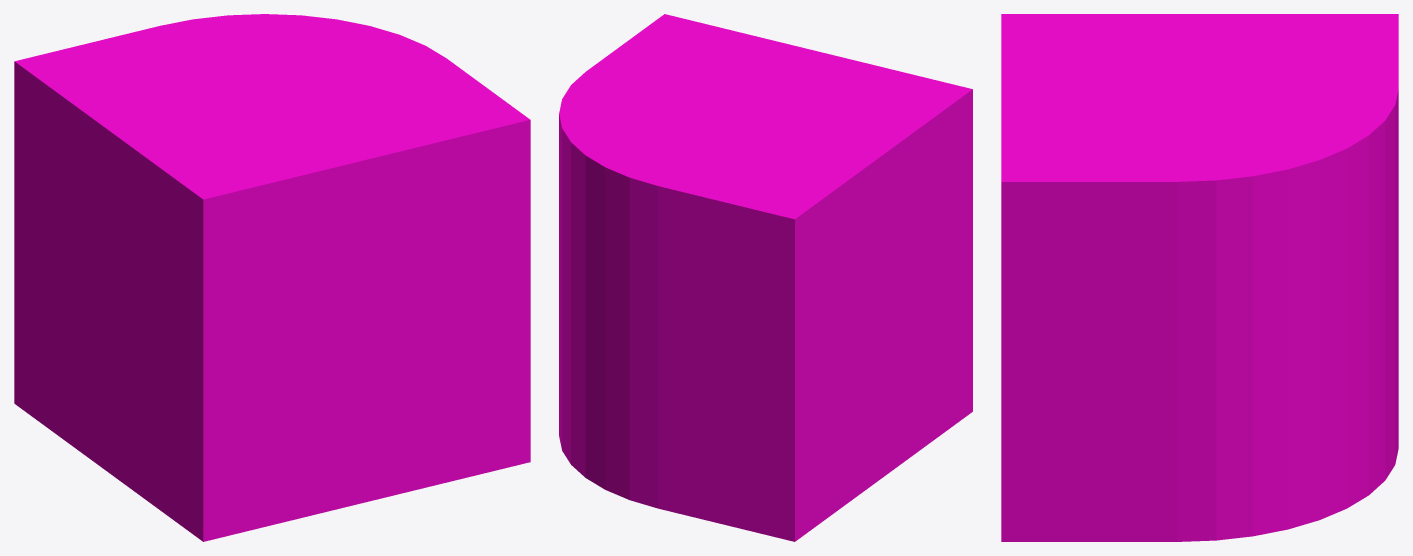
File: SM_Cube_NoSmoothing.fbx
The picture shows the model from 3 angles, left to right: view 1: azimuth 30°, elevation 25°; view 2: azimuth 150°, elevation 25°; view 3: azimuth 270°, elevation 25°; orthographic projection. The views are drawn at different scales.
Visible parts, largest first — view 1: SM_Cube_NoSmoothing; view 2: SM_Cube_NoSmoothing; view 3: SM_Cube_NoSmoothing.
Part boxes in pixels (bbox=[...]): SM_Cube_NoSmoothing: bbox=[14, 14, 530, 541]; SM_Cube_NoSmoothing: bbox=[559, 14, 972, 541]; SM_Cube_NoSmoothing: bbox=[1001, 14, 1398, 541].
Bounding box in the file's own units: 200 × 200 × 200.
